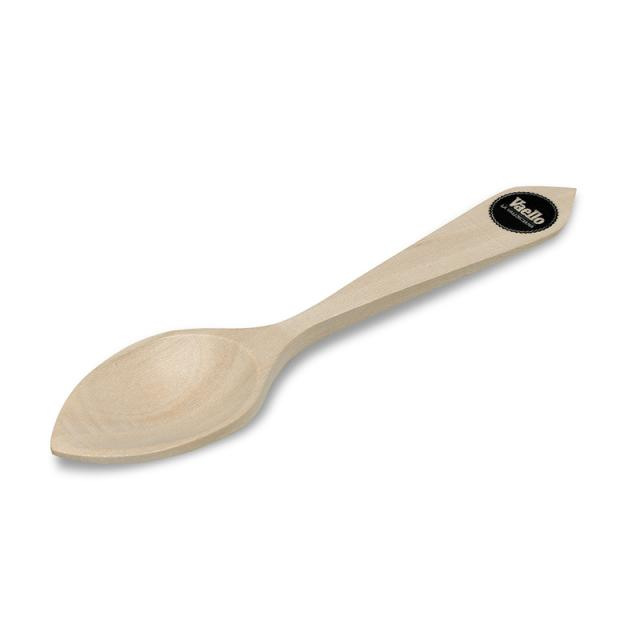spoon: (43, 172, 579, 472)
